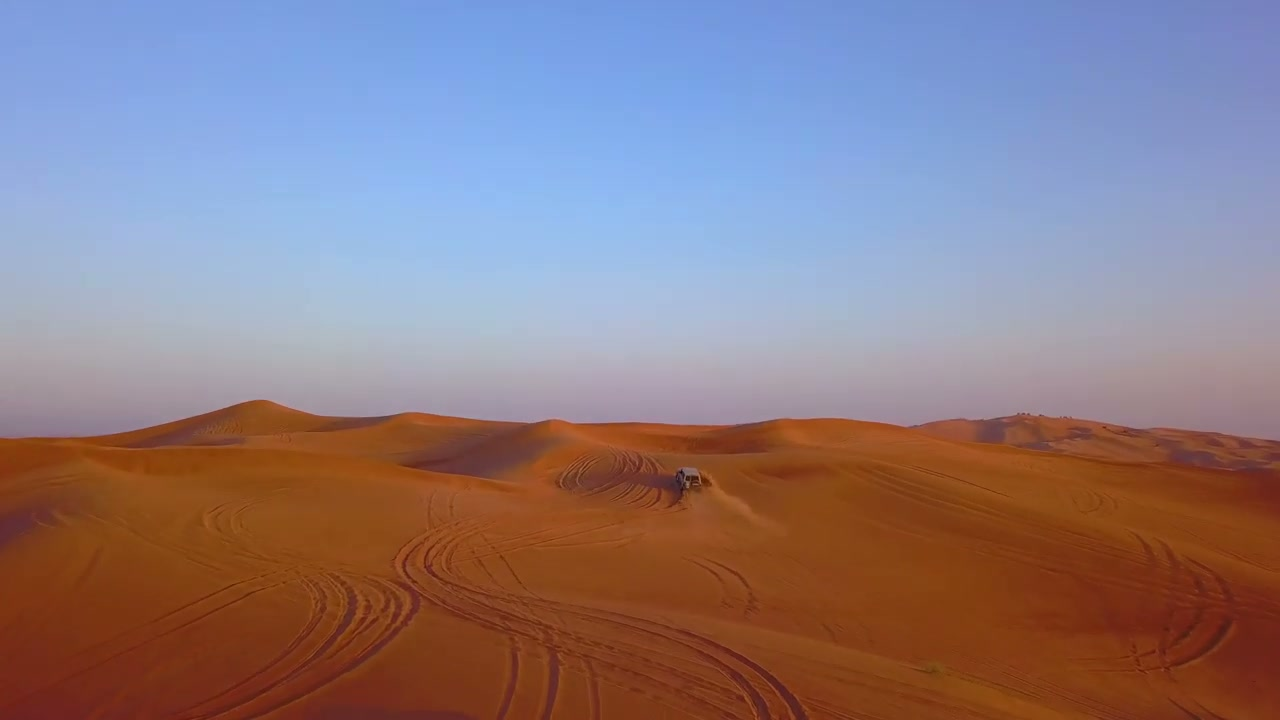vehicle_track: (0, 494, 421, 719), (394, 518, 806, 718), (176, 494, 420, 719), (396, 520, 684, 702), (0, 570, 297, 715), (174, 571, 419, 719), (858, 469, 1149, 591), (1087, 533, 1236, 719), (857, 468, 1139, 564), (175, 577, 327, 719), (1097, 533, 1235, 673), (973, 657, 1140, 719), (80, 512, 224, 571), (458, 515, 623, 562), (556, 446, 677, 509), (200, 490, 280, 562), (685, 556, 759, 617), (1179, 527, 1279, 572), (902, 465, 1009, 497), (496, 638, 519, 719), (556, 453, 600, 493), (1070, 487, 1117, 517)
